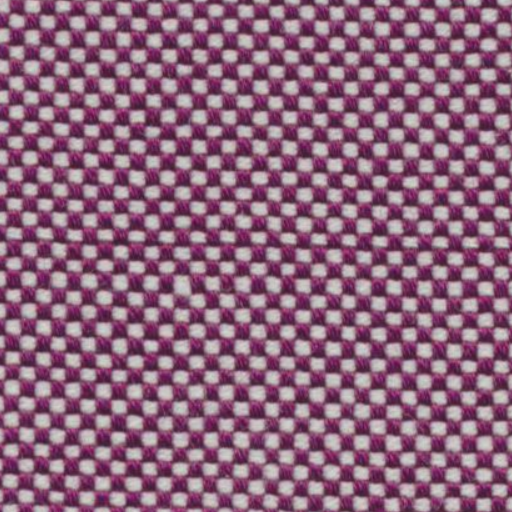TuoSha: (12, 194, 488, 274)
